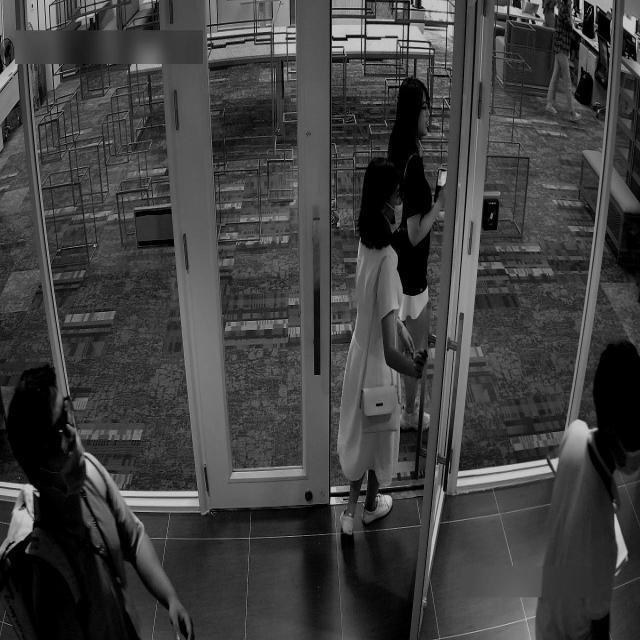hairnet: (50, 396, 86, 498)
